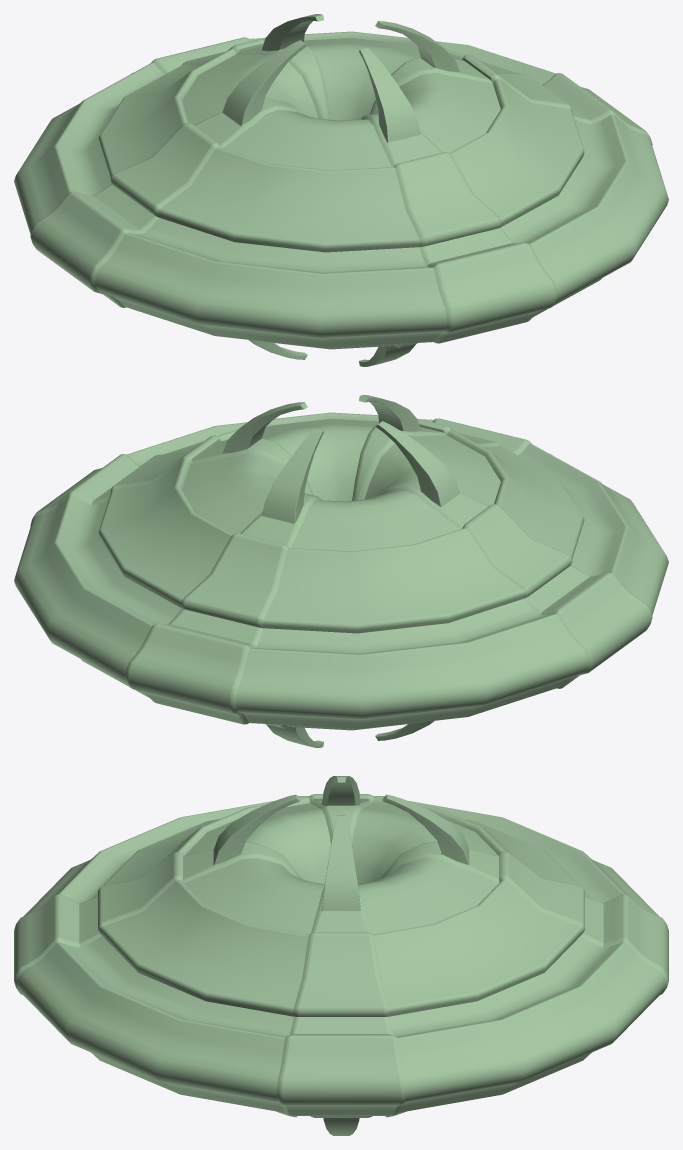
File: HoloID_Model00.fbx
3 renders of one model, top to bottom at view 1: azimuth 30°, elevation 25°; view 2: azimuth 150°, elevation 25°; view 3: azimuth 270°, elevation 25°, orthographic.
Visible parts, largest first — view 1: HoloID; view 2: HoloID; view 3: HoloID.
Part boxes in pixels (x1,y1,x2,y2): HoloID: (14,14,668,366); HoloID: (14,395,668,747); HoloID: (14,776,668,1135).
Bounding box in the file's own units: 9.67 × 5.2 × 9.67.
